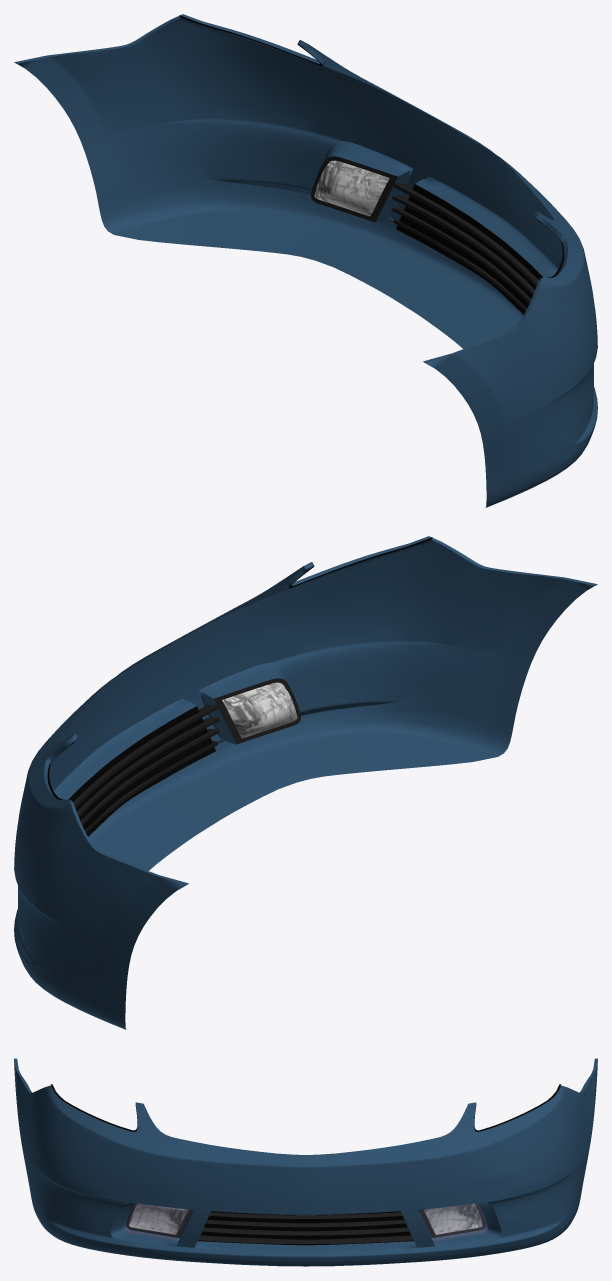
The picture shows the model from 3 angles, top to bottom: view 1: azimuth 30°, elevation 25°; view 2: azimuth 150°, elevation 25°; view 3: azimuth 270°, elevation 25°; orthographic projection. The views are drawn at different scales.
Visible parts, largest first — view 1: Y191_13_021G_C_1_DaS_Y191_13_021G_C, Y191_13_021G_C_1_DaS_Y191_13_021G_C_E, Y191_13_021G_C_Y191_13_021G_C_2_D, Y191_13_021G_C_Y191_13_021G_C_3_D, Y191_13_021G_C_Y191_13_021G_C_4_N; view 2: Y191_13_021G_C_1_DaS_Y191_13_021G_C, Y191_13_021G_C_1_DaS_Y191_13_021G_C_E, Y191_13_021G_C_Y191_13_021G_C_2_D, Y191_13_021G_C_Y191_13_021G_C_3_D, Y191_13_021G_C_Y191_13_021G_C_4_N; view 3: Y191_13_021G_C_1_DaS_Y191_13_021G_C, Y191_13_021G_C_Y191_13_021G_C_2_D, Y191_13_021G_C_1_DaS_Y191_13_021G_C_E, Y191_13_021G_C_Y191_13_021G_C_3_D, Y191_13_021G_C_Y191_13_021G_C_4_N, Y191_13_021G_C_Y191_13_021G_C_5_DTaSI, Y191_13_021G_C_Y191_13_021G_C_4_DTaSI, Y191_13_021G_C_Y191_13_021G_C_1_D.
Part boxes in pixels (bbox=[...]): Y191_13_021G_C_1_DaS_Y191_13_021G_C: bbox=[17, 17, 597, 507]; Y191_13_021G_C_1_DaS_Y191_13_021G_C_E: bbox=[14, 14, 567, 362]; Y191_13_021G_C_Y191_13_021G_C_2_D: bbox=[311, 156, 538, 311]; Y191_13_021G_C_Y191_13_021G_C_3_D: bbox=[396, 184, 542, 314]; Y191_13_021G_C_Y191_13_021G_C_4_N: bbox=[314, 160, 389, 216]; Y191_13_021G_C_1_DaS_Y191_13_021G_C: bbox=[14, 539, 594, 1029]; Y191_13_021G_C_1_DaS_Y191_13_021G_C_E: bbox=[44, 536, 597, 884]; Y191_13_021G_C_Y191_13_021G_C_2_D: bbox=[73, 678, 300, 833]; Y191_13_021G_C_Y191_13_021G_C_3_D: bbox=[69, 706, 215, 836]; Y191_13_021G_C_Y191_13_021G_C_4_N: bbox=[222, 682, 297, 738]; Y191_13_021G_C_1_DaS_Y191_13_021G_C: bbox=[14, 1060, 597, 1266]; Y191_13_021G_C_Y191_13_021G_C_2_D: bbox=[126, 1203, 485, 1244]; Y191_13_021G_C_1_DaS_Y191_13_021G_C_E: bbox=[14, 1058, 597, 1252]; Y191_13_021G_C_Y191_13_021G_C_3_D: bbox=[198, 1211, 413, 1245]; Y191_13_021G_C_Y191_13_021G_C_4_N: bbox=[129, 1203, 482, 1234]; Y191_13_021G_C_Y191_13_021G_C_5_DTaSI: bbox=[418, 1203, 487, 1241]; Y191_13_021G_C_Y191_13_021G_C_4_DTaSI: bbox=[124, 1203, 193, 1241]; Y191_13_021G_C_Y191_13_021G_C_1_D: bbox=[50, 1084, 561, 1131].
Bounding box in the file's own units: 69.05 × 49.21 × 170.
